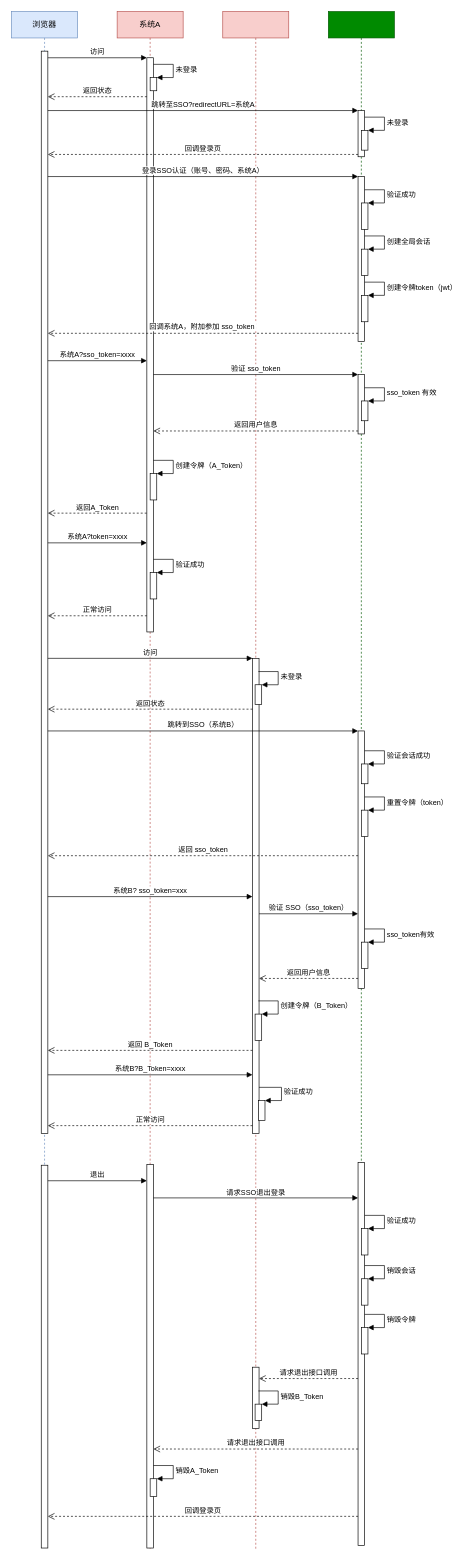
The diagram is 469 pixels wide and 1560 high, and some of its shapes have lost their labels. The shapes that lost their labels are listed below. From the top down, each one's box as (x1, y1, x2, y2) in pixels, then its label:
(222, 11, 289, 1549): 系统B
(328, 11, 394, 1546): SSO 统一认证
